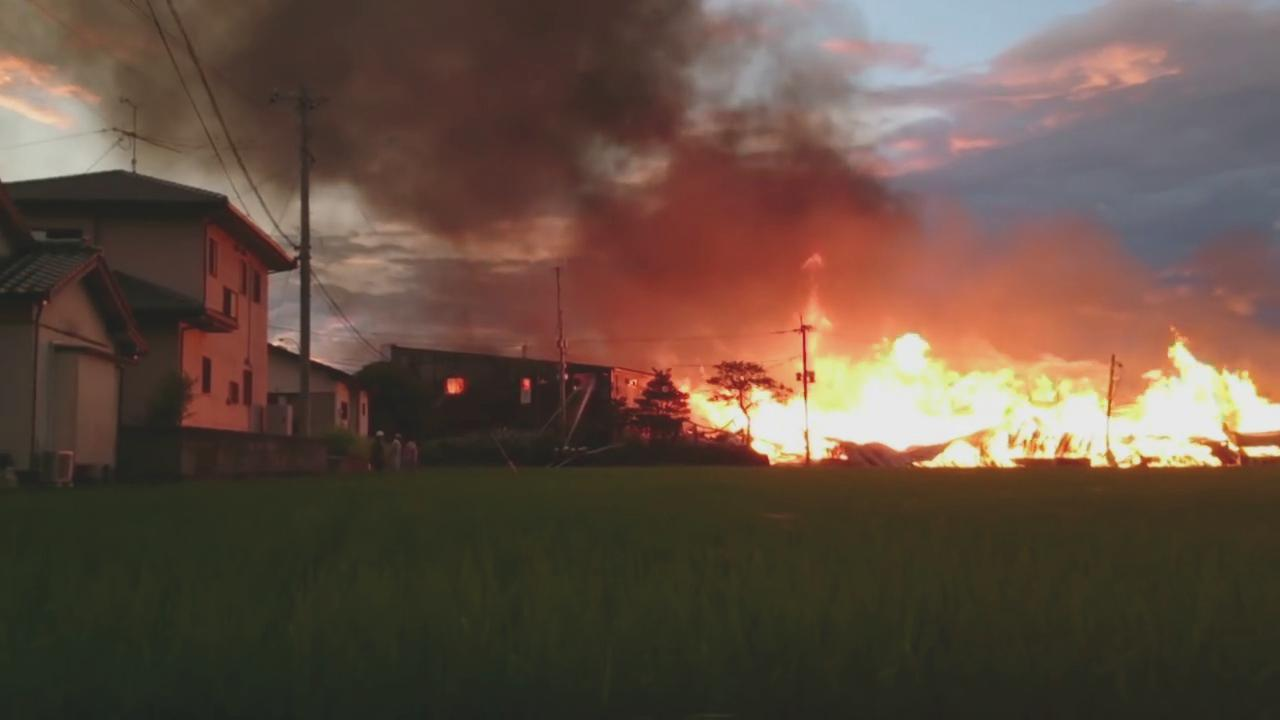Fire: (678, 256, 1278, 467), (444, 375, 466, 396), (524, 377, 535, 391)
